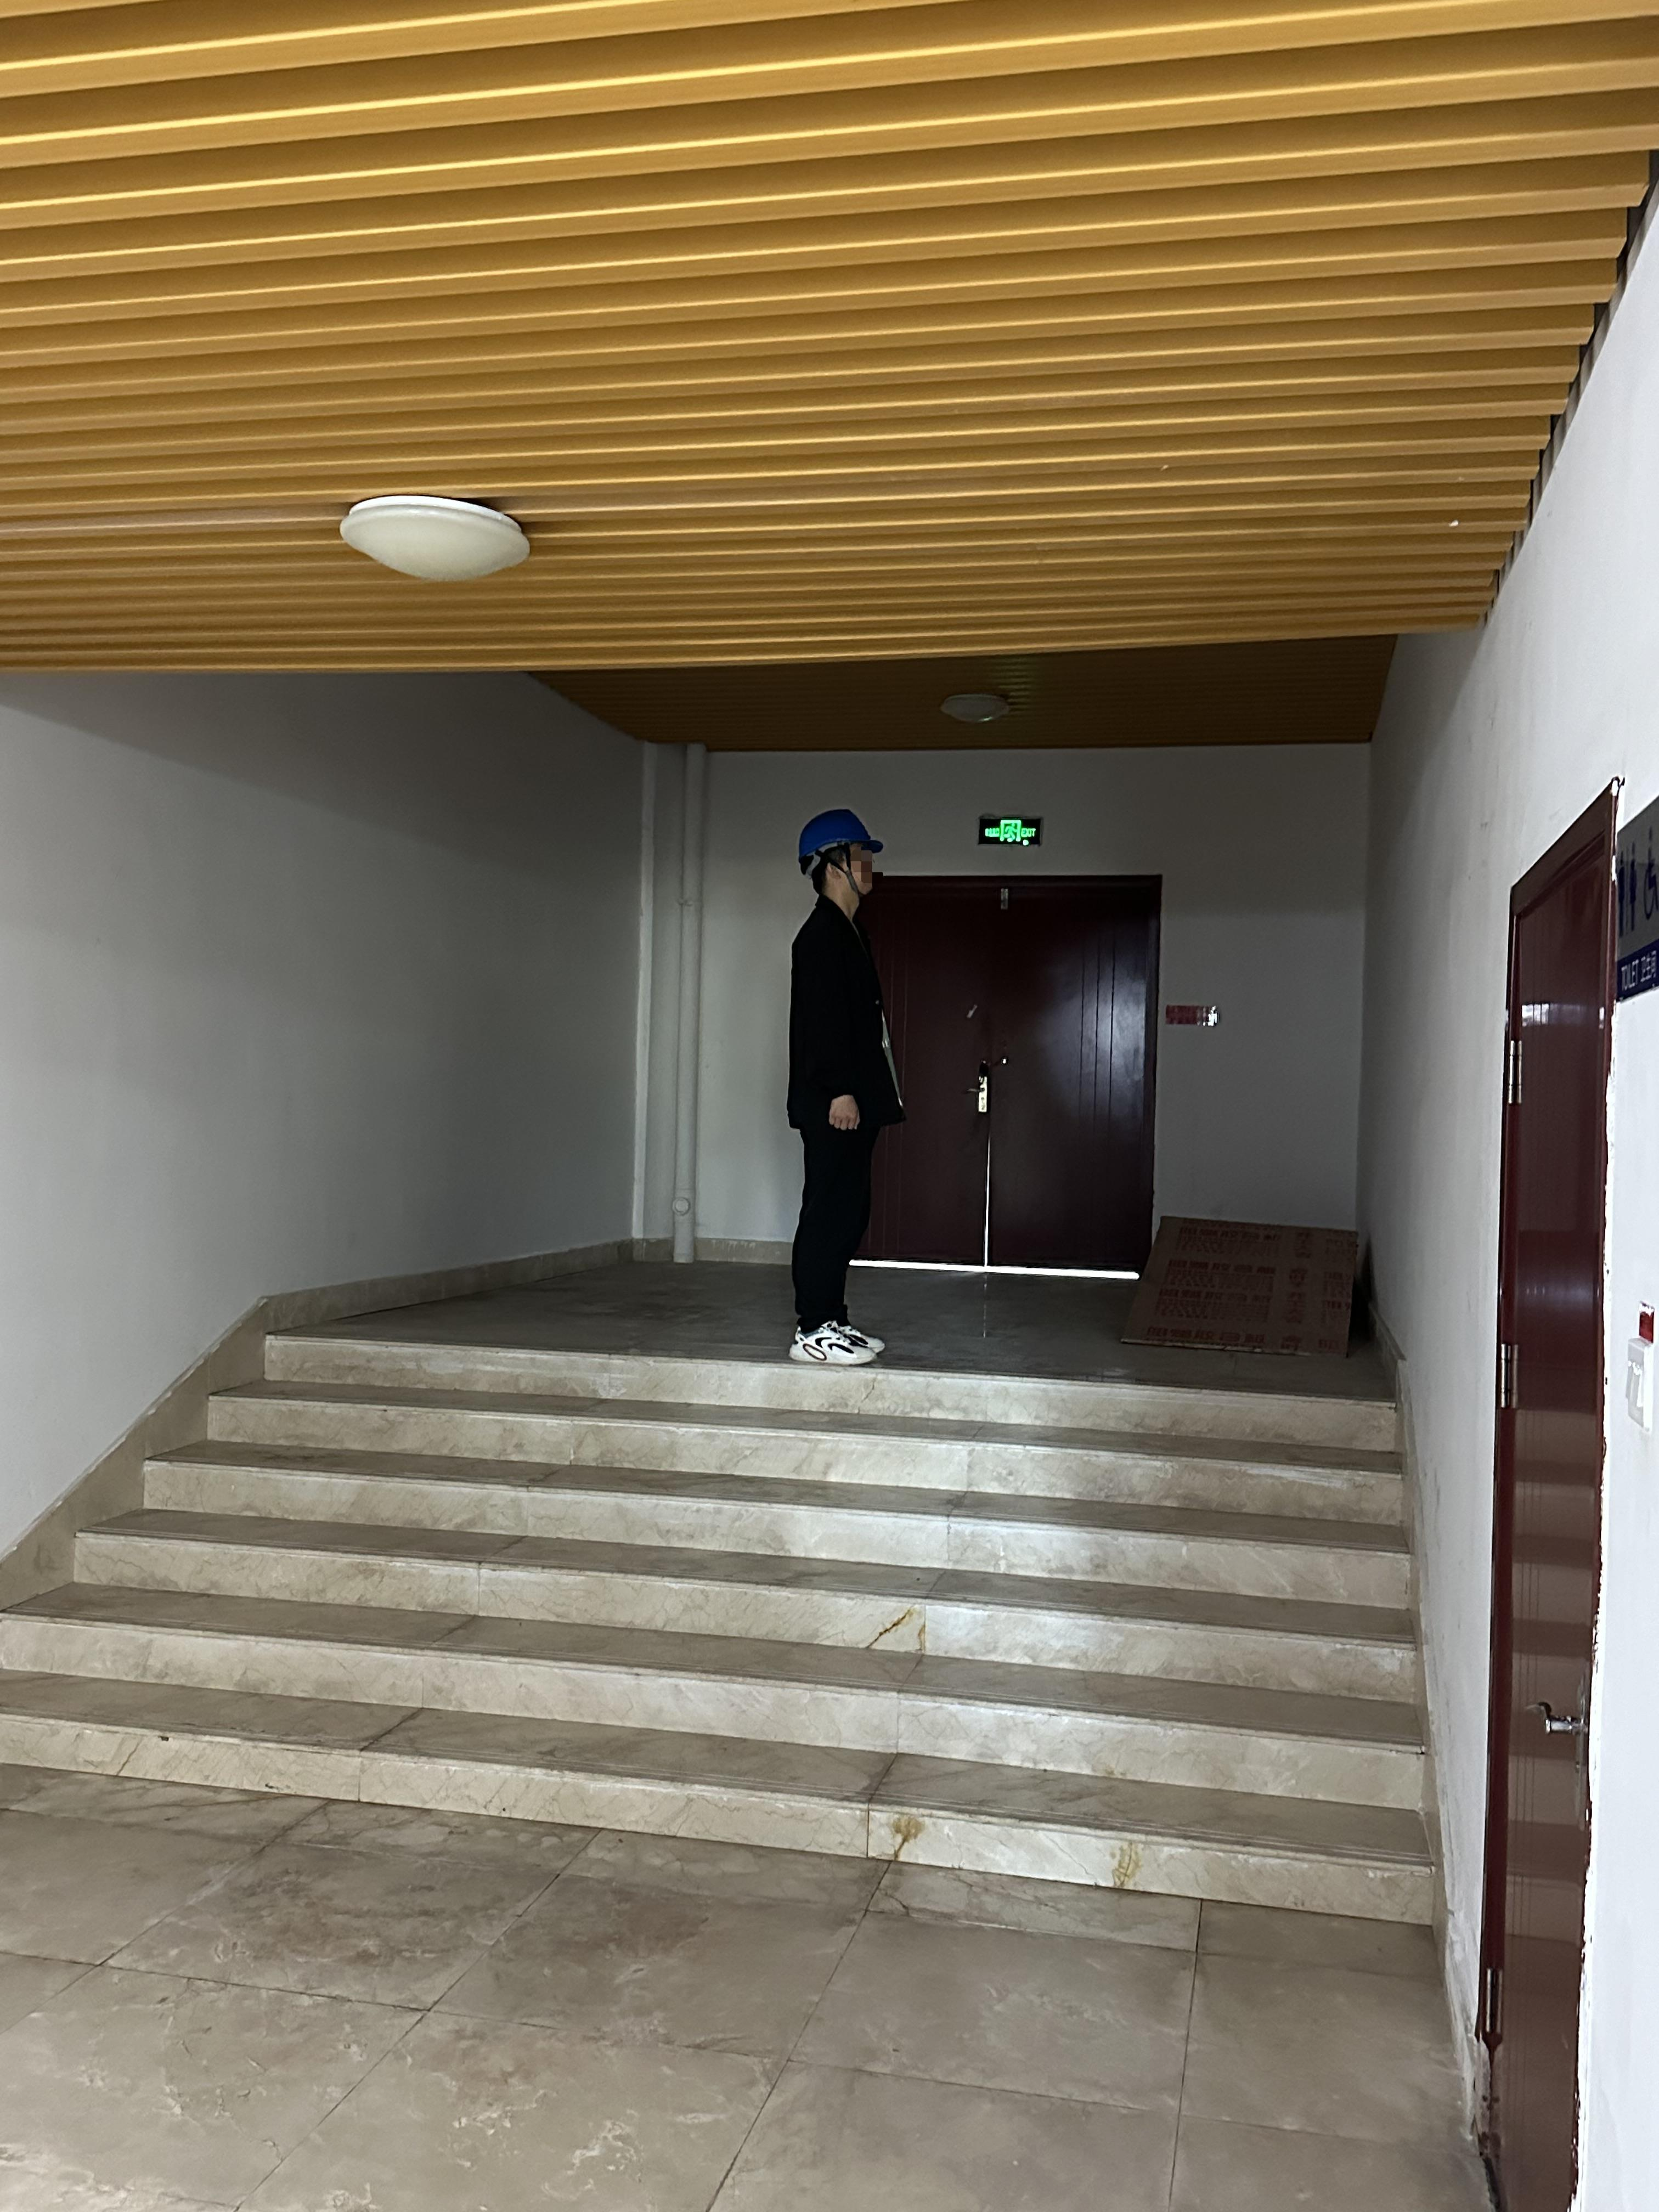halt: (796, 813, 878, 906)
outear: (816, 846, 859, 895)
